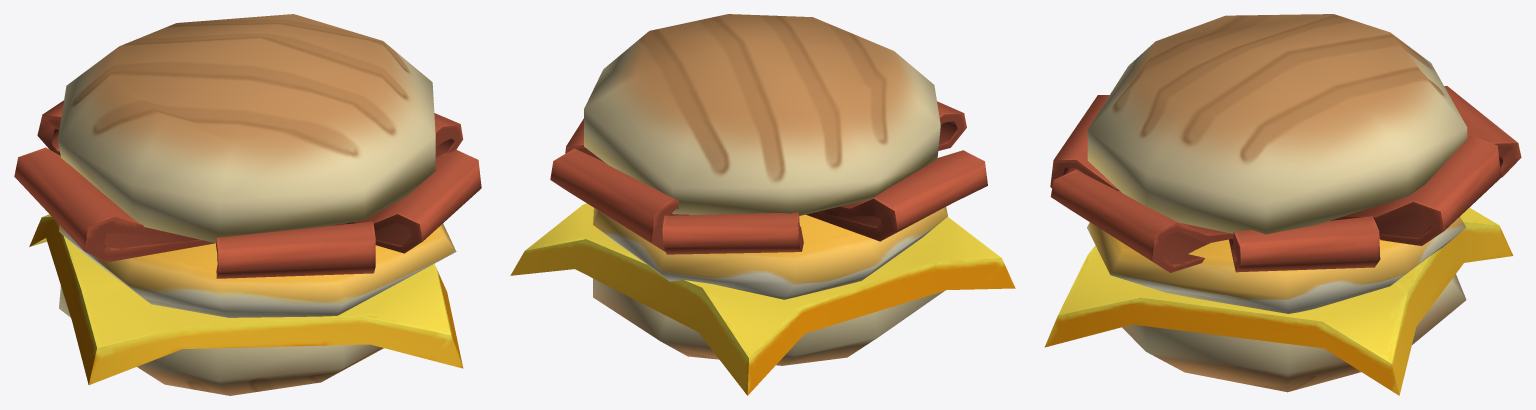
The model's file is eggsandwich-low-poly.fbx.
The picture shows the model from 3 angles, left to right: view 1: azimuth 30°, elevation 25°; view 2: azimuth 150°, elevation 25°; view 3: azimuth 270°, elevation 25°; orthographic projection. The views are drawn at different scales.
Parts seen in each view (by area): view 1: taco; view 2: taco; view 3: taco.
Part boxes in pixels (x1,y1,x2,y2): taco: [14, 14, 481, 395]; taco: [510, 14, 1015, 395]; taco: [1044, 14, 1521, 395].
Size of the model in its own units: 14.22 by 9.65 by 14.02.
Materials: 1 (1 with a texture image).
